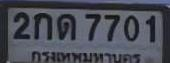0: (123, 14, 138, 40)
1: (145, 14, 154, 42)
2: (13, 11, 29, 38)
7: (84, 13, 100, 40), (104, 14, 119, 41)
A01: (33, 12, 51, 39)
A20: (56, 13, 75, 39)
BKK: (29, 49, 144, 63)
